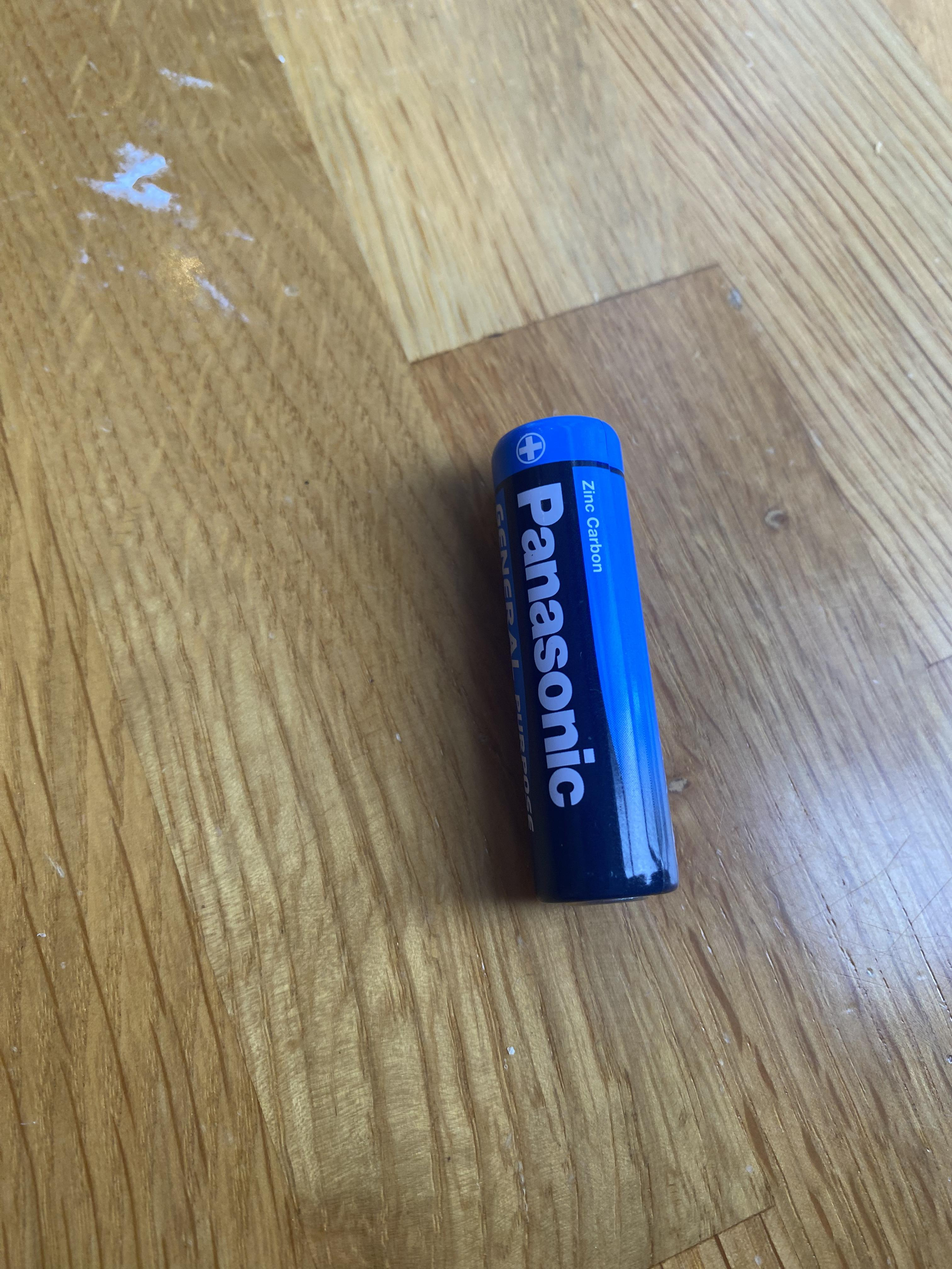AA: (489, 413, 680, 904)
